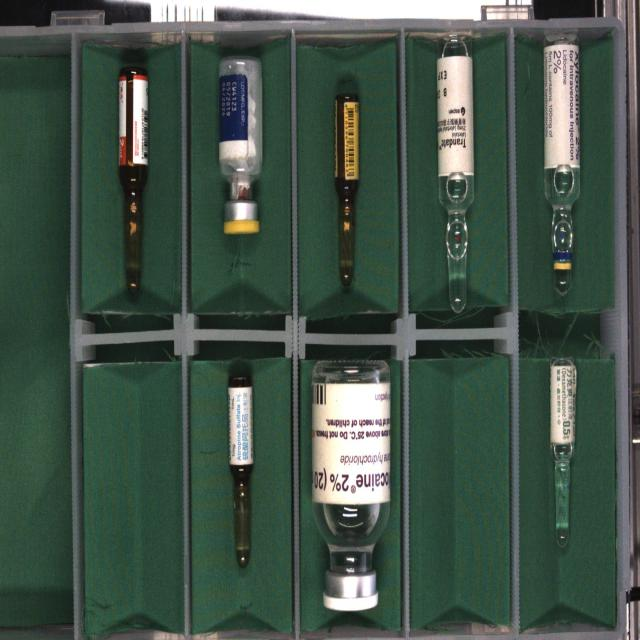Vials: (311, 361, 391, 611), (219, 58, 262, 235)
